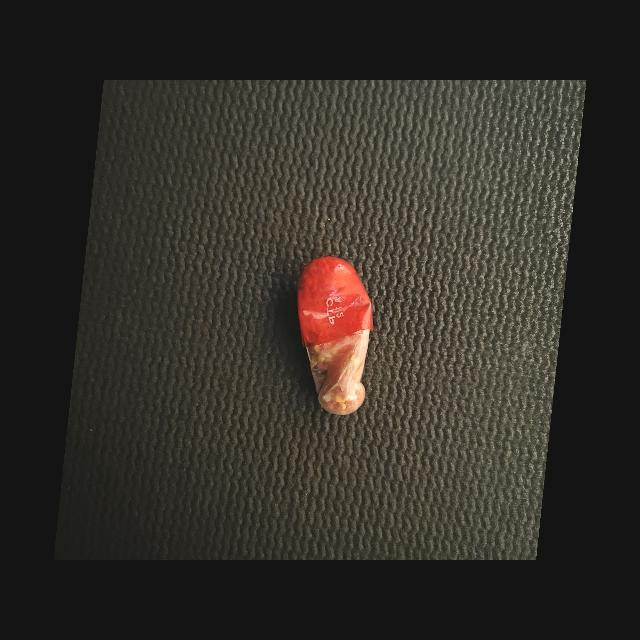Defective Capsule: (298, 257, 374, 415)
